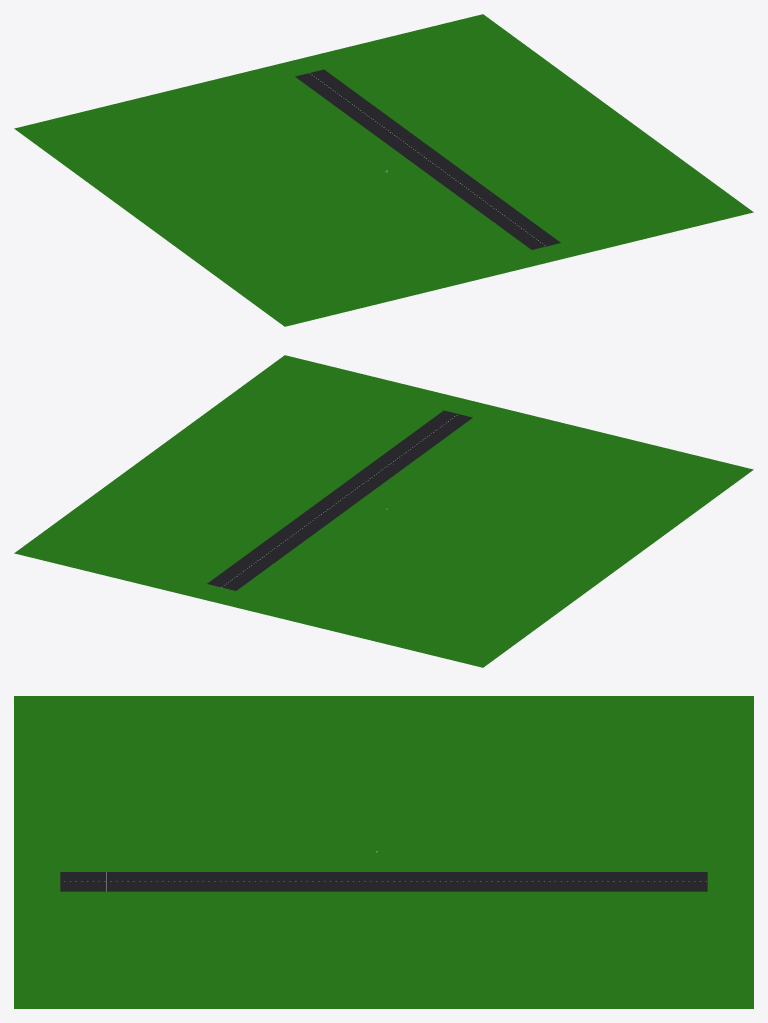
Rendered from airfield.obj.
3 renders of one model, top to bottom at view 1: azimuth 30°, elevation 25°; view 2: azimuth 150°, elevation 25°; view 3: azimuth 270°, elevation 25°, orthographic. The views are drawn at different scales.
Parts seen in each view (by area): view 1: Plane_Plane.003; view 2: Plane_Plane.003; view 3: Plane_Plane.003.
Boxes of the visible parts, x1,y1,x2,y2 form: Plane_Plane.003: [14, 14, 753, 326]; Plane_Plane.003: [14, 355, 753, 667]; Plane_Plane.003: [14, 696, 753, 1008].
Bounding box in the file's own units: 1000 × 4 × 1000.
